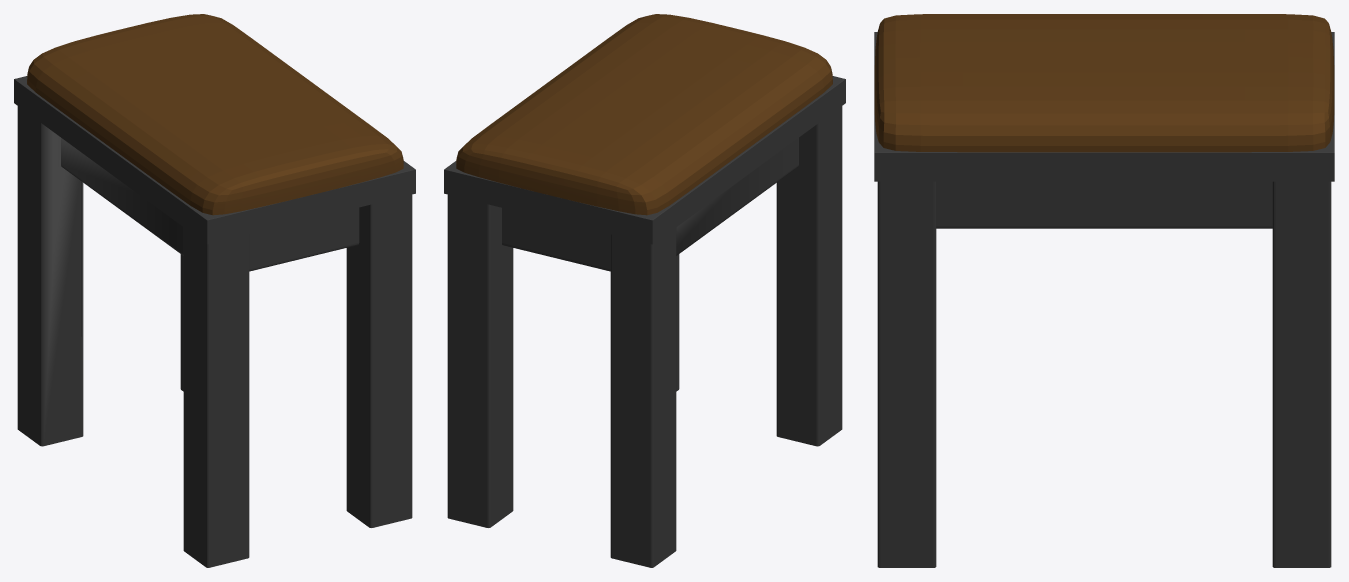
Rendered from piano bench.fbx.
3 views of the same model, side by side, from view 1: azimuth 30°, elevation 25°; view 2: azimuth 150°, elevation 25°; view 3: azimuth 270°, elevation 25° (orthographic). The views are drawn at different scales.
Visible parts, largest first — view 1: Seat; view 2: Seat; view 3: Seat.
Part boxes in pixels (<box>): Seat: <box>14,14,415,567</box>; Seat: <box>444,14,845,567</box>; Seat: <box>874,14,1334,567</box>.
Size of the model in its own units: 217 by 376 by 348.
